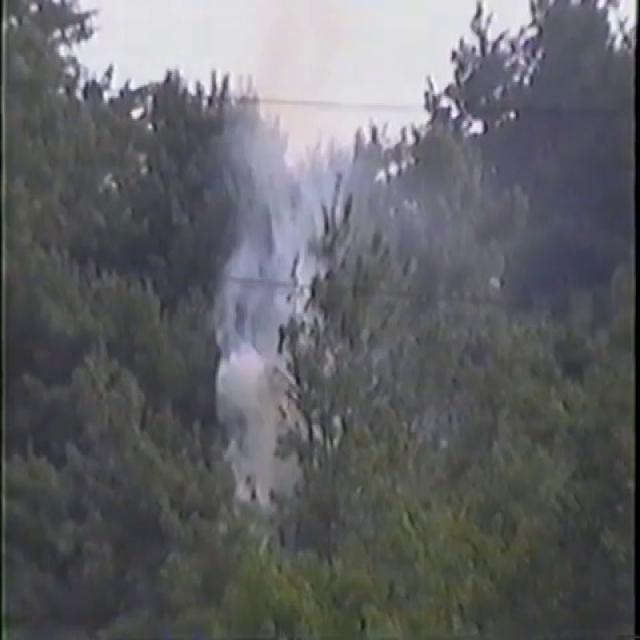Smoke: (206, 22, 372, 506)
